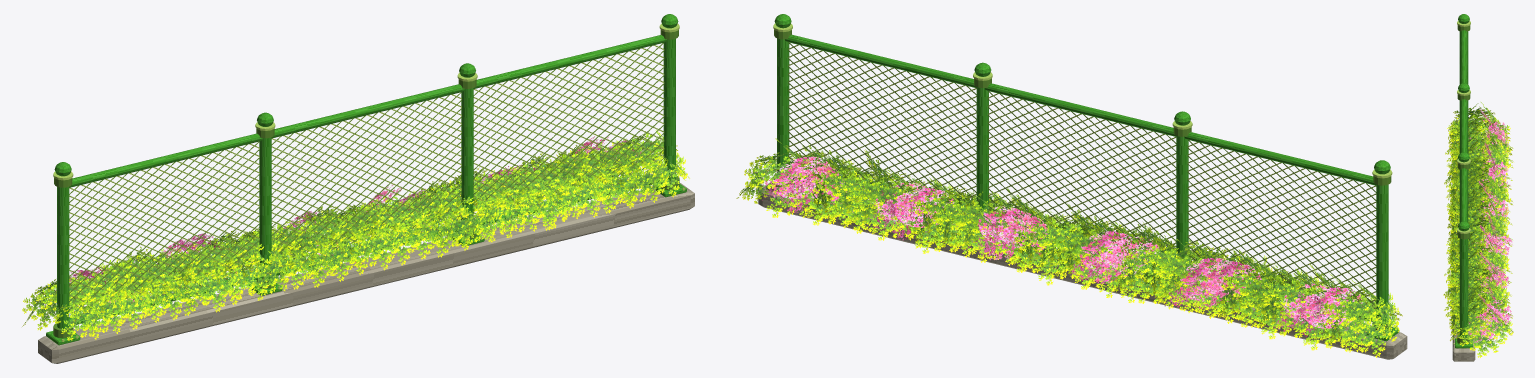
Rendered from P10_sports_fence_v2.glb.
3 renders of one model, left to right at view 1: azimuth 30°, elevation 25°; view 2: azimuth 150°, elevation 25°; view 3: azimuth 270°, elevation 25°, orthographic. The views are drawn at different scales.
Visible parts, largest first — view 1: GAME_V2_Leaf_cutout, GAME_diamond mesh, GAME_pixel mottled concrete, GAME_painted green metal, GAME_V2_Blossom_cutout, GAME_collar dark green; view 2: GAME_V2_Leaf_cutout, GAME_diamond mesh, GAME_V2_Blossom_cutout, GAME_painted green metal, GAME_pixel mottled concrete, GAME_collar dark green; view 3: GAME_V2_Leaf_cutout, GAME_painted green metal, GAME_V2_Blossom_cutout, GAME_pixel mottled concrete, GAME_collar dark green, GAME_post highlights.
Part boxes in pixels (x1,y1,x2,y2): GAME_V2_Leaf_cutout: (22, 130, 689, 340); GAME_diamond mesh: (69, 43, 664, 318); GAME_pixel mottled concrete: (38, 183, 694, 363); GAME_painted green metal: (46, 14, 686, 345); GAME_V2_Blossom_cutout: (55, 134, 653, 302); GAME_collar dark green: (53, 30, 679, 338); GAME_V2_Leaf_cutout: (736, 138, 1402, 357); GAME_diamond mesh: (788, 42, 1376, 311); GAME_V2_Blossom_cutout: (761, 156, 1363, 336); GAME_painted green metal: (766, 14, 1399, 341); GAME_pixel mottled concrete: (758, 182, 1407, 359); GAME_collar dark green: (773, 30, 1392, 333); GAME_V2_Leaf_cutout: (1443, 102, 1513, 357); GAME_painted green metal: (1455, 14, 1472, 348); GAME_V2_Blossom_cutout: (1456, 109, 1512, 343); GAME_pixel mottled concrete: (1452, 135, 1475, 361); GAME_collar dark green: (1457, 25, 1470, 344); GAME_post highlights: (1453, 20, 1470, 344).
Bounding box in the file's own units: 8.14 × 2.23 × 1.25.
7 materials, 5 textured.
